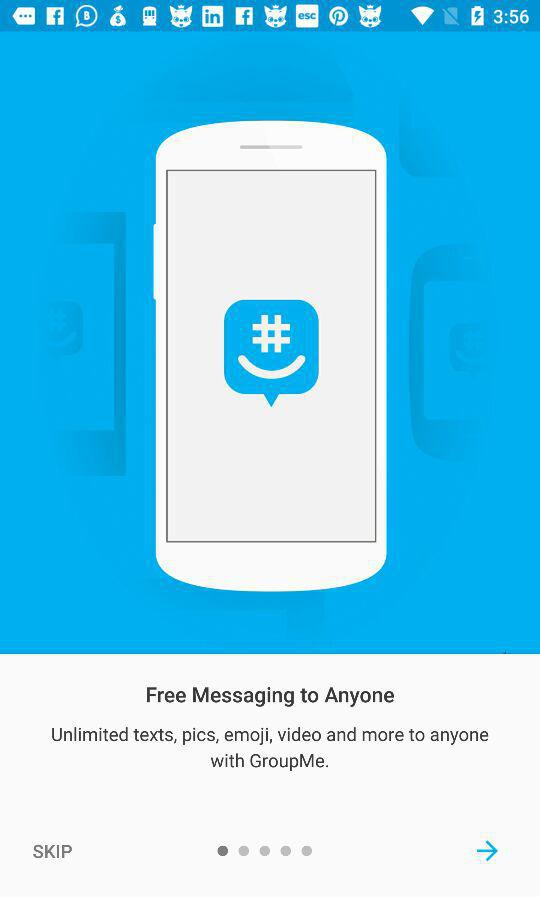Icon: (477, 839, 499, 863)
Image: (1, 33, 540, 654)
PageIndicator: (217, 845, 314, 857)
Text: (51, 725, 491, 772), (146, 685, 396, 708), (33, 844, 74, 859)
UpperTaskBar: (1, 1, 540, 33)
